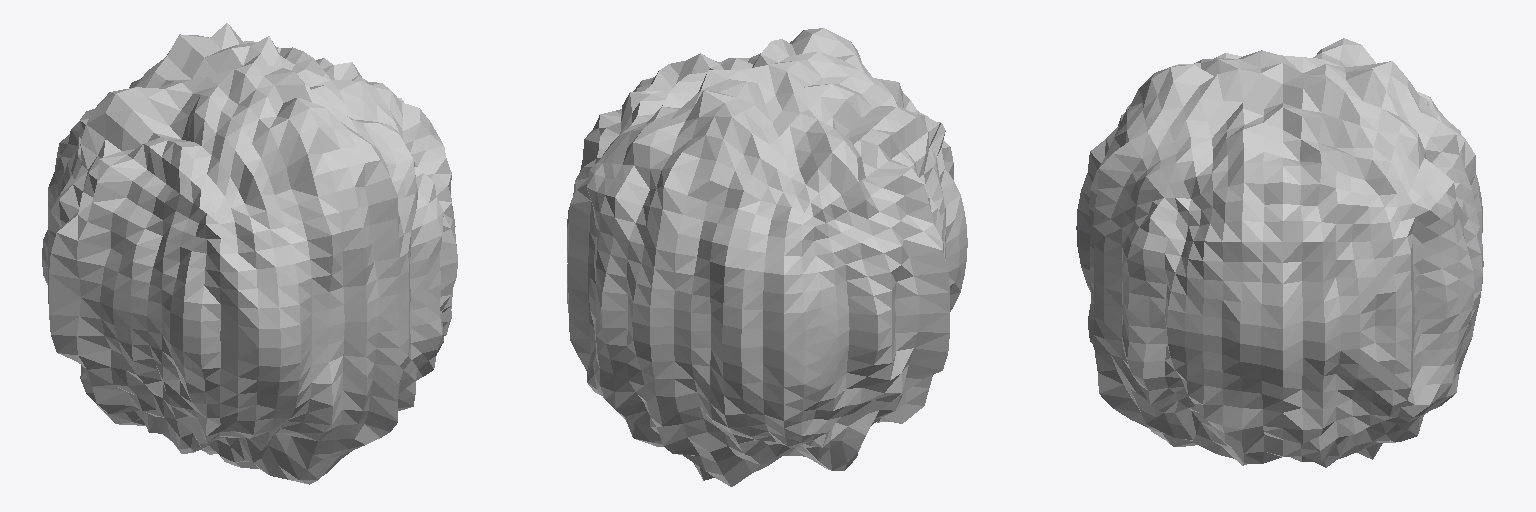
The model's file is asteroid125.obj.
3 renders of one model, left to right at view 1: azimuth 30°, elevation 25°; view 2: azimuth 150°, elevation 25°; view 3: azimuth 270°, elevation 25°, orthographic.
Visible parts, largest first — view 1: Cube_Cube.002; view 2: Cube_Cube.002; view 3: Cube_Cube.002.
Boxes of the visible parts, x1=… form: Cube_Cube.002: x1=42, y1=23, x2=457, y2=484; Cube_Cube.002: x1=567, y1=28, x2=967, y2=486; Cube_Cube.002: x1=1076, y1=38, x2=1483, y2=467.
Bounding box in the file's own units: 1.85 × 1.78 × 1.68.